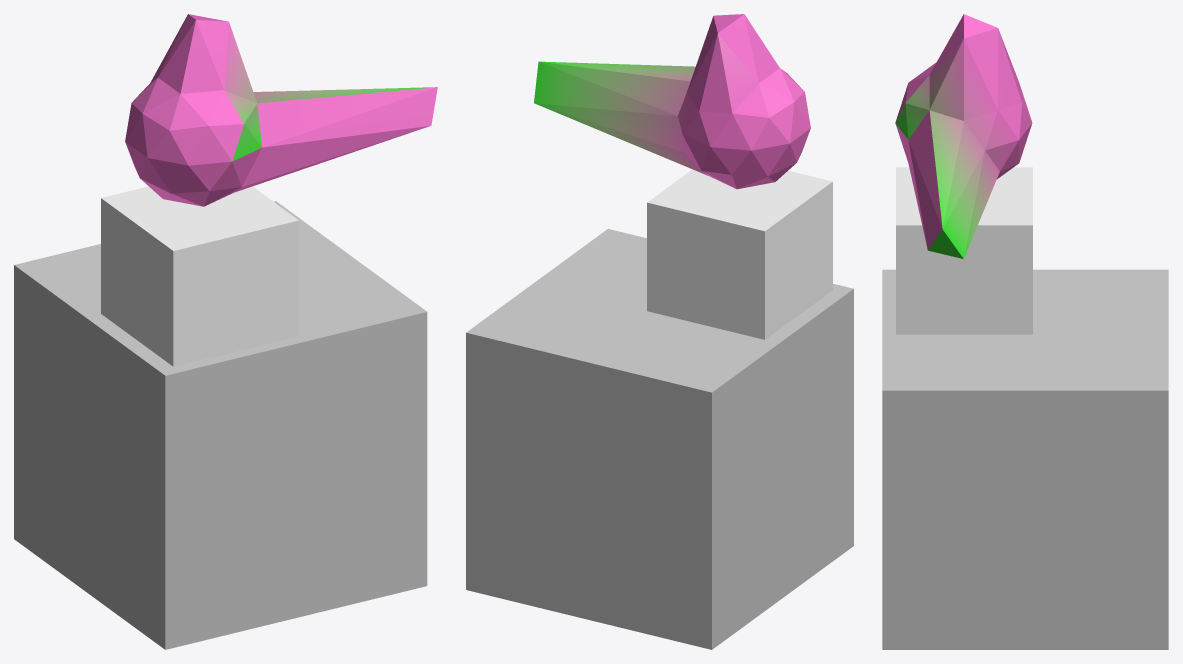
The model's file is multi.dae.
The picture shows the model from 3 angles, left to right: view 1: azimuth 30°, elevation 25°; view 2: azimuth 150°, elevation 25°; view 3: azimuth 270°, elevation 25°; orthographic projection. The views are drawn at different scales.
Visible parts, largest first — view 1: Cube, Icosphere, Cube_001; view 2: Cube, Icosphere, Cube_001; view 3: Cube, Icosphere, Cube_001.
Boxes of the visible parts, x1=… form: Cube: x1=14, y1=201, x2=427, y2=649; Icosphere: x1=125, y1=14, x2=437, y2=206; Cube_001: x1=101, y1=186, x2=298, y2=366; Cube: x1=466, y1=229, x2=853, y2=649; Icosphere: x1=534, y1=14, x2=810, y2=189; Cube_001: x1=647, y1=169, x2=832, y2=339; Cube: x1=882, y1=269, x2=1168, y2=649; Icosphere: x1=895, y1=14, x2=1032, y2=258; Cube_001: x1=896, y1=167, x2=1032, y2=334.
Size of what is drawn, in the model's own units: 4.85 by 4.17 by 8.83.
